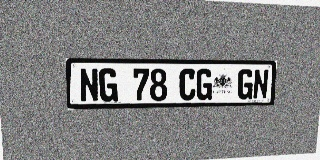7: (132, 68, 149, 101)
8: (150, 68, 167, 101)
C: (179, 69, 196, 101)
G: (99, 68, 118, 102), (196, 69, 213, 100), (237, 69, 254, 99)
N: (79, 68, 99, 102), (252, 69, 269, 99)
